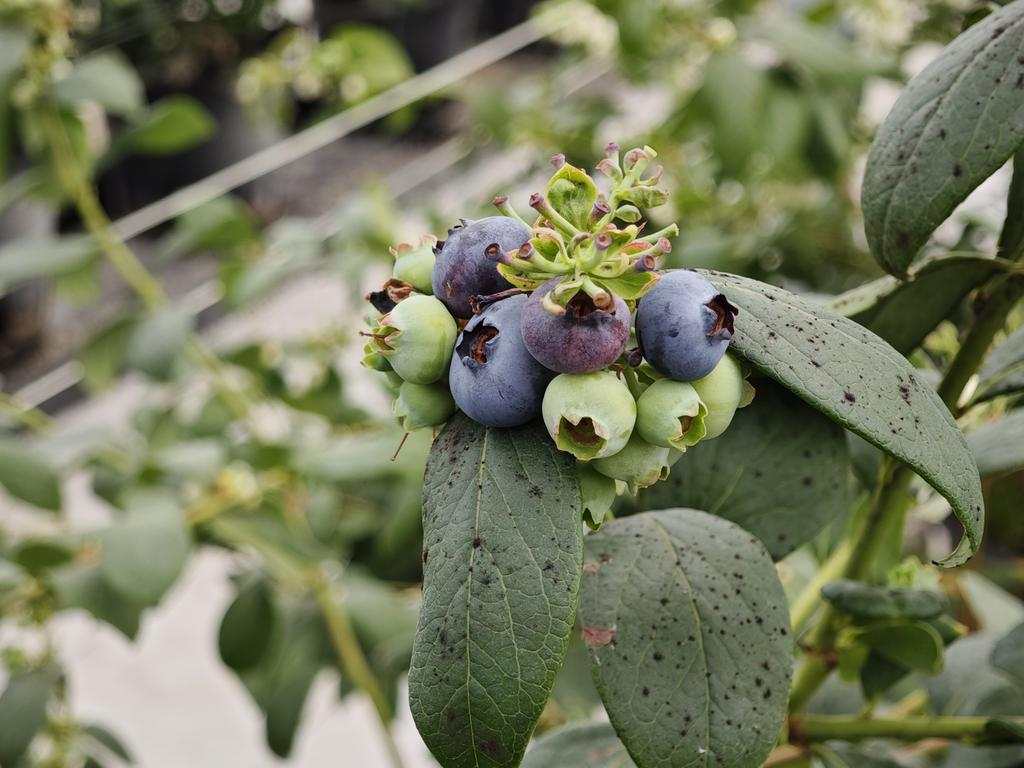RipeBlueBerry: (447, 289, 560, 431), (632, 268, 740, 384), (430, 213, 540, 309)
Semi-RipeBlueBerry: (520, 278, 631, 369)
UnripeBlueBerry: (539, 370, 638, 463), (370, 293, 461, 387)
